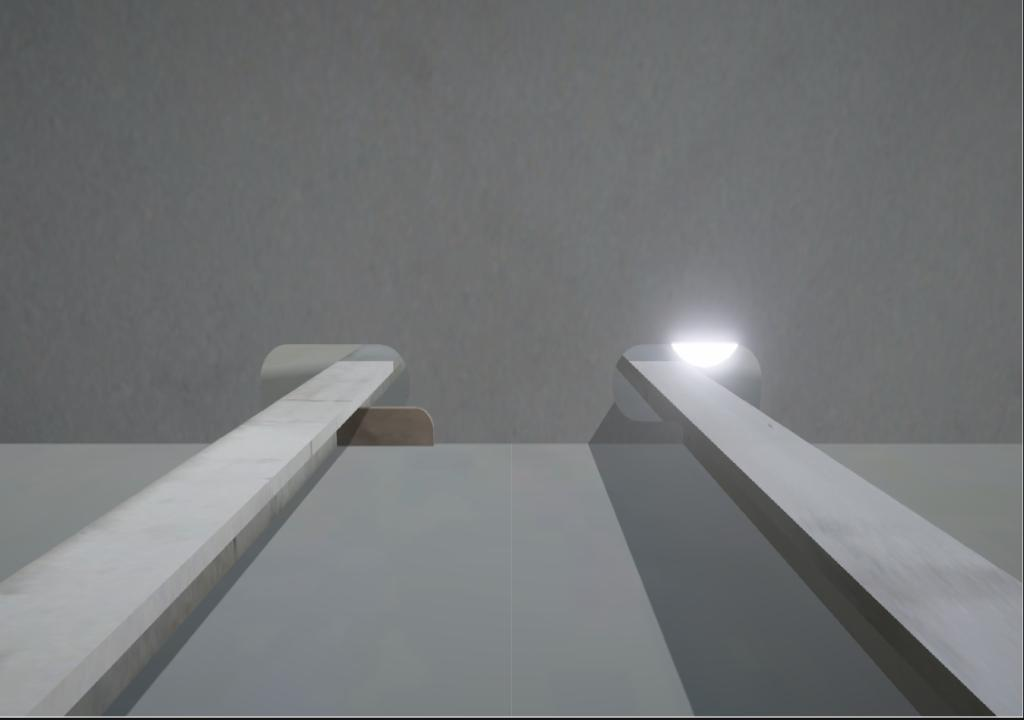fillet_yong_jeop_jang: (433, 435, 687, 450)
longi_yong_jeop_jang: (677, 423, 689, 455)
plate_CP05: (336, 404, 436, 446)
